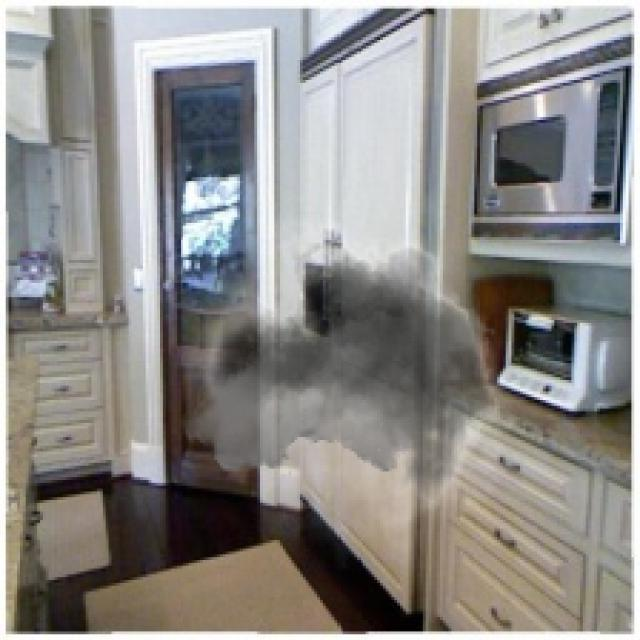Smoke: (180, 197, 526, 572)
